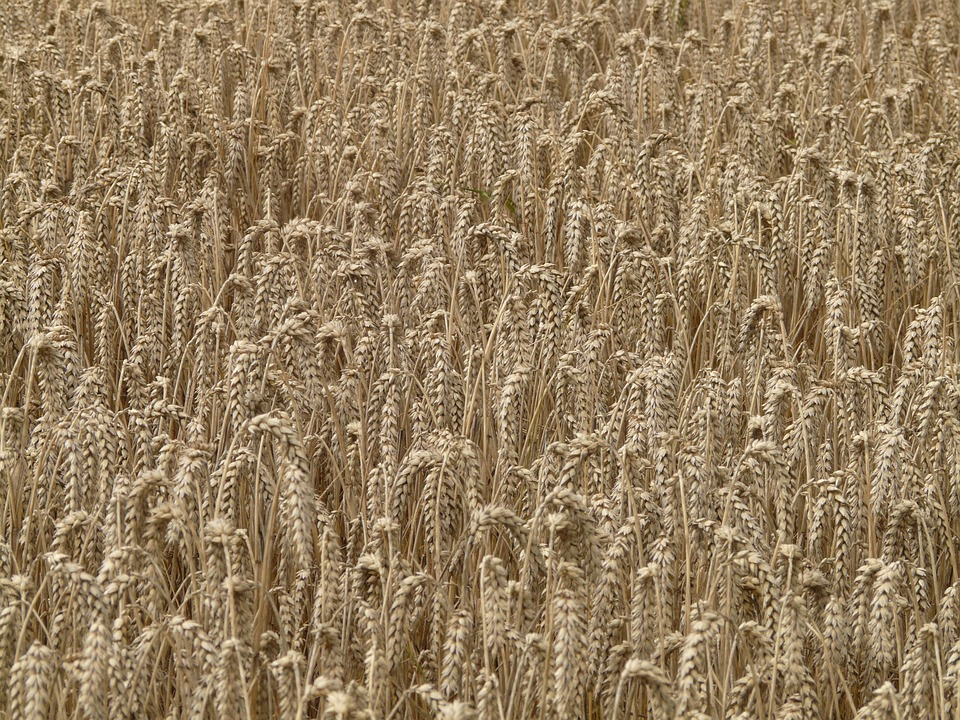Wheat: (178, 115, 889, 417)
